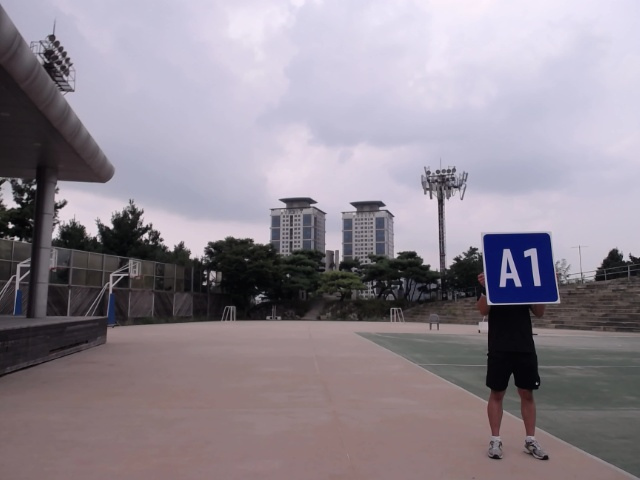delivery_a1: (482, 232, 560, 305)
